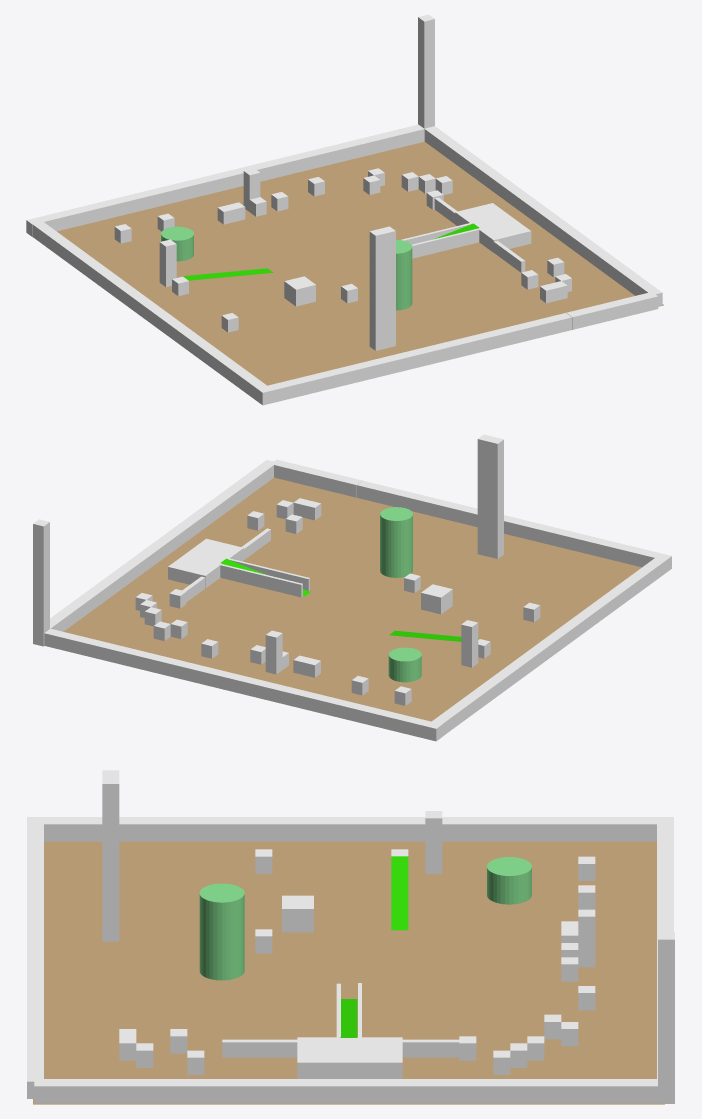
File: debug_map03.glb
3 renders of one model, top to bottom at view 1: azimuth 30°, elevation 25°; view 2: azimuth 150°, elevation 25°; view 3: azimuth 270°, elevation 25°, orthographic. The views are drawn at different scales.
Parts seen in each view (by area): view 1: MazeFloor, Wall_10_1, Wall_26_18, Wall_30_28.001, Wall_0_0.001, Wall_28_19.001, Wall_29_12, Wall_0_0.002, Wall_1_20, Wall_14_29; view 2: MazeFloor, Wall_10_1, Wall_0_0.001, Wall_26_18, Wall_30_28.001, Wall_28_19, Wall_0_0.002, Wall_1_20, Wall_29_12, Wall_14_29, Wall_28_19.001; view 3: MazeFloor, Wall_26_18, Wall_0_0.001, Wall_10_1, Wall_30_28.001, Wall_0_0.002, Wall_26_7, Wall_Slope_Test.001, Wall_29_12, Wall_1_20, Wall_26_7.001, Wall_14_29 (+1 smaller).
Boxes of the visible parts, x1,y1,x2,y2 form: MazeFloor: (57,141,663,385); Wall_10_1: (369,226,395,350); Wall_26_18: (455,203,531,252); Wall_30_28.001: (418,14,434,128); Wall_0_0.001: (396,239,412,310); Wall_28_19.001: (412,228,479,258); Wall_29_12: (284,276,315,306); Wall_0_0.002: (161,226,193,261); Wall_1_20: (159,239,176,286); Wall_14_29: (243,168,260,211); MazeFloor: (63,477,641,721); Wall_10_1: (477,434,503,558); Wall_0_0.001: (380,507,412,577); Wall_26_18: (168,538,243,588); Wall_30_28.001: (33,519,49,646); Wall_28_19: (208,562,302,597); Wall_0_0.002: (388,647,421,682); Wall_1_20: (461,620,478,667); Wall_29_12: (421,584,452,614); Wall_14_29: (265,630,282,674); Wall_28_19.001: (223,557,309,590); MazeFloor: (33,841,664,1104); Wall_26_18: (297,1037,402,1078); Wall_0_0.001: (199,883,244,980); Wall_10_1: (102,770,119,941); Wall_30_28.001: (658,932,674,1103); Wall_0_0.002: (487,857,531,904); Wall_26_7: (222,1039,297,1057); Wall_Slope_Test.001: (391,856,408,930); Wall_29_12: (282,895,313,932); Wall_1_20: (425,811,442,873); Wall_26_7.001: (402,1039,459,1057); Wall_14_29: (578,909,595,967).
Bounding box in the file's own units: 331 × 105 × 317.
